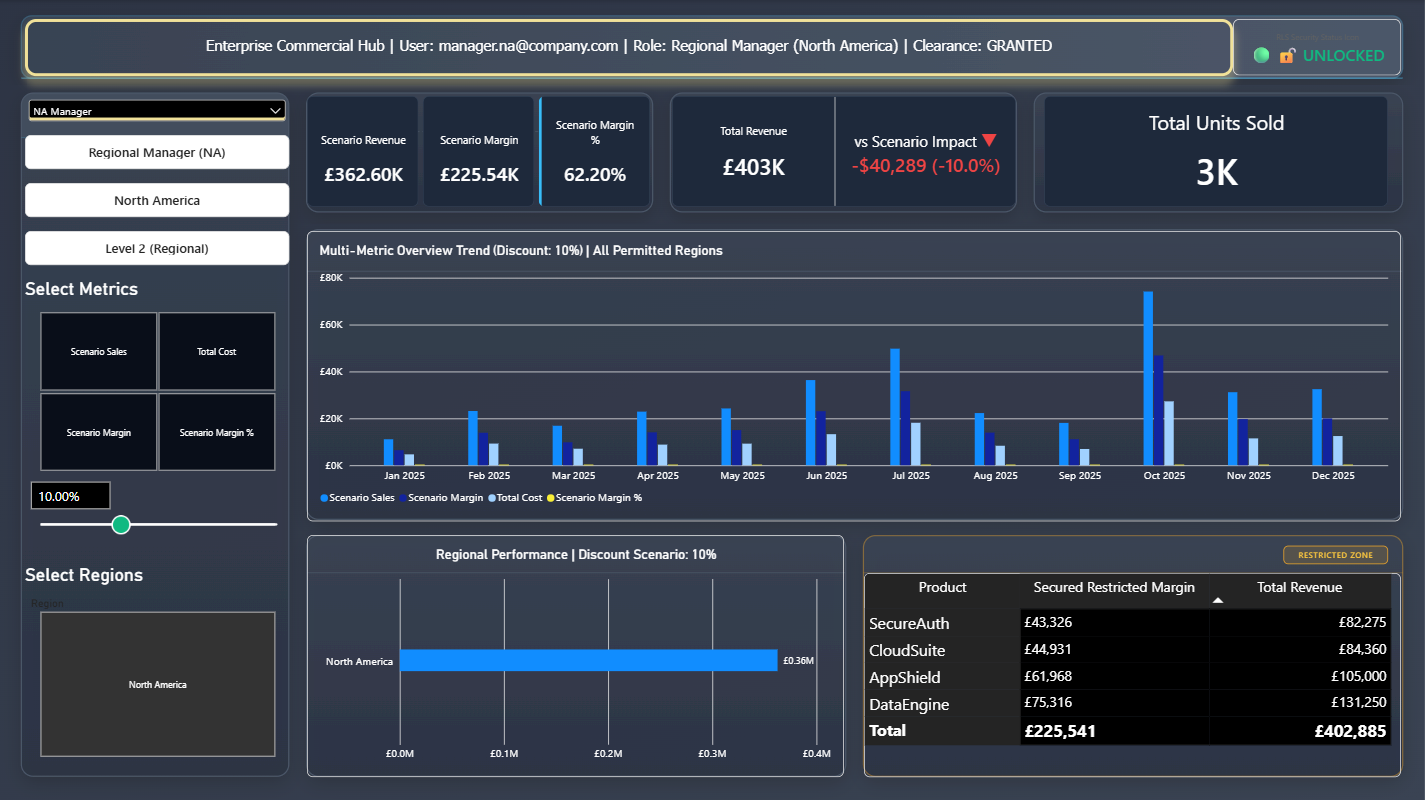

The page's visual inventory and layout, read from the dashboard file:
{"tool":"powerbi","page":{"name":"Page 1","canvas":[1920,1080],"ordinal":0},"visuals":[{"type":"card","fields":{"Values":["Key Measures.Top Governance Banner"]},"box":[33.7,25.6,1626.7,76.8],"z":0},{"type":"slicer","title":"Select Metrics","fields":{"Values":["Metric Parameter.Metric Parameter"]},"box":[33.7,375.7,355.5,260],"z":1000},{"type":"slicer","fields":{"Values":["Discount Scenario.Discount Rate"]},"box":[33.7,643.9,355.5,109.1],"z":2000},{"type":"clusteredColumnChart","fields":{"Category":["DimDate.Month"],"Y":["Key Measures.Scenario Sales","Key Measures.Scenario Margin","Key Measures.Total Cost","Key Measures.Scenario Margin %"]},"box":[413.4,311.1,1473.2,390.5],"z":3000},{"type":"slicer","title":"Select Regions","fields":{"Values":["DimRegion.Region"]},"box":[33.7,761.2,355.5,260],"z":4000},{"type":"cardVisual","fields":{"Data":["Key Measures.RLS Security Status Icon"]},"box":[1660.4,25.6,226.2,76.8],"z":5000},{"type":"cardVisual","fields":{"Data":["Key Measures.Scenario Sales","Key Measures.Scenario Margin","Key Measures.Scenario Margin %"]},"box":[413.4,129.3,463.2,149.5],"z":6000},{"type":"cardVisual","fields":{"Data":["Key Measures.Total Revenue"]},"box":[904.9,129.3,463.2,149.5],"z":7000},{"type":"cardVisual","fields":{"Data":["Key Measures.Total Units Sold"]},"box":[1405.9,129.3,463.2,149.5],"z":8000},{"type":"pivotTable","fields":{"Rows":["FactSales.Product"],"Values":["Key Measures.Secured Restricted Margin","Key Measures.Total Revenue"]},"box":[1163.5,771.6,723.1,274.7],"z":9000},{"type":"actionButton","title":"Security Overlay Shield","box":[1163.5,771.6,723.1,274.7],"z":10000},{"type":"clusteredBarChart","fields":{"Category":["DimRegion.Region"],"Y":["Key Measures.Scenario Sales"]},"box":[413.4,720.4,723.1,325.9],"z":11000},{"type":"slicer","fields":{"Values":["Persona Table.PersonName"]},"box":[33.7,129.3,355.5,61.9],"z":12000},{"type":"card","fields":{"Values":["Key Measures.Display Role"]},"box":[33.7,181.8,355.5,45.8],"z":13000},{"type":"card","fields":{"Values":["Key Measures.Display Scope"]},"box":[33.7,246.4,355.5,45.8],"z":14000},{"type":"card","fields":{"Values":["Key Measures.Display Clearance"]},"box":[33.7,311.1,355.5,45.8],"z":15000}]}

Visuals, with their boxes in screenshot pixels (x1, y1, x2, y2), scaled from the page's 1920x1080 canvas onto the 1425x800 screenshot:
card - Key Measures.Top Governance Banner: bbox=(25, 19, 1232, 76)
"Select Metrics" slicer: bbox=(25, 278, 289, 471)
slicer - Discount Scenario.Discount Rate: bbox=(25, 477, 289, 558)
clusteredColumnChart - DimDate.Month x Key Measures.Scenario Sales: bbox=(307, 230, 1400, 520)
"Select Regions" slicer: bbox=(25, 564, 289, 756)
cardVisual - Key Measures.RLS Security Status Icon: bbox=(1232, 19, 1400, 76)
cardVisual - Key Measures.Scenario Sales x Key Measures.Scenario Margin: bbox=(307, 96, 651, 207)
cardVisual - Key Measures.Total Revenue: bbox=(672, 96, 1015, 207)
cardVisual - Key Measures.Total Units Sold: bbox=(1043, 96, 1387, 207)
pivotTable - FactSales.Product x Key Measures.Secured Restricted Margin: bbox=(864, 572, 1400, 775)
"Security Overlay Shield" actionButton: bbox=(864, 572, 1400, 775)
clusteredBarChart - DimRegion.Region x Key Measures.Scenario Sales: bbox=(307, 534, 843, 775)
slicer - Persona Table.PersonName: bbox=(25, 96, 289, 142)
card - Key Measures.Display Role: bbox=(25, 135, 289, 169)
card - Key Measures.Display Scope: bbox=(25, 183, 289, 216)
card - Key Measures.Display Clearance: bbox=(25, 230, 289, 264)
